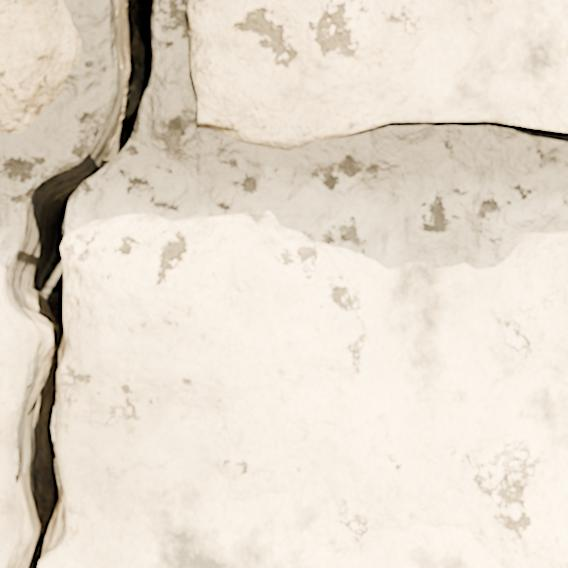brick: (187, 0, 567, 149), (0, 0, 79, 132)
broken_brick: (39, 210, 567, 567), (0, 283, 32, 567)
crack: (0, 0, 155, 567)
